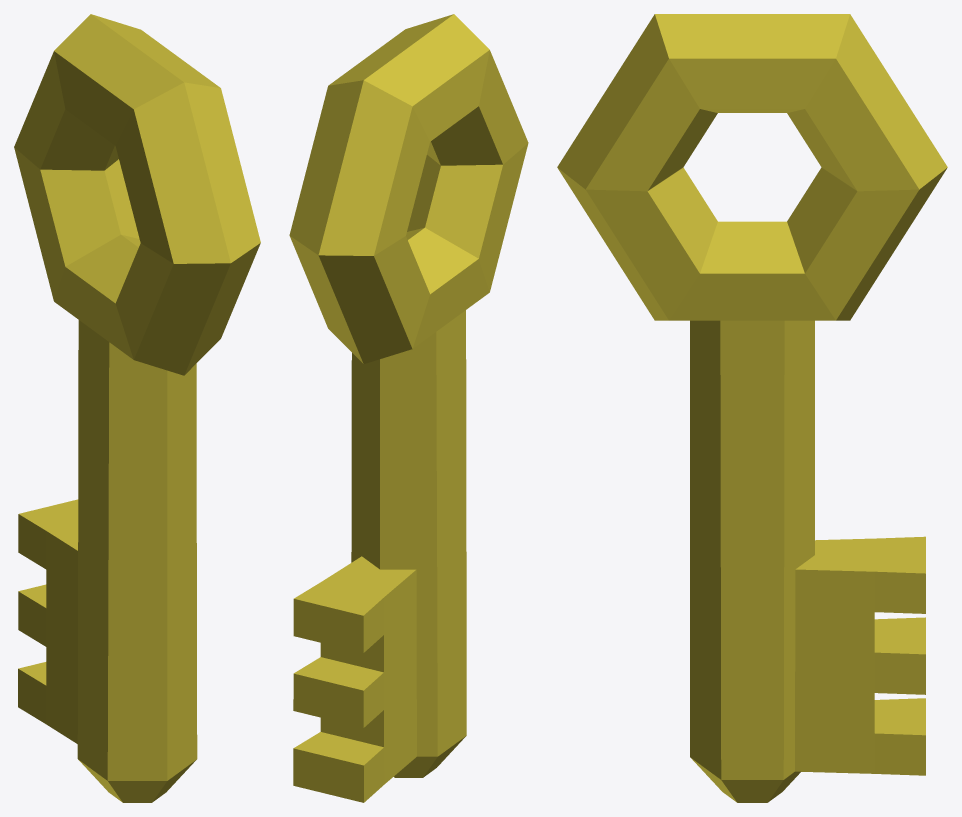
The model's file is key.fbx.
The picture shows the model from 3 angles, left to right: view 1: azimuth 30°, elevation 25°; view 2: azimuth 150°, elevation 25°; view 3: azimuth 270°, elevation 25°; orthographic projection. The views are drawn at different scales.
Visible parts, largest first — view 1: key; view 2: key; view 3: key.
Boxes of the visible parts, x1=… form: key: x1=14, y1=14, x2=260, y2=802; key: x1=289, y1=14, x2=528, y2=802; key: x1=557, y1=14, x2=947, y2=802.
Size of the model in its own units: 11.64 by 88.02 by 40.07.
